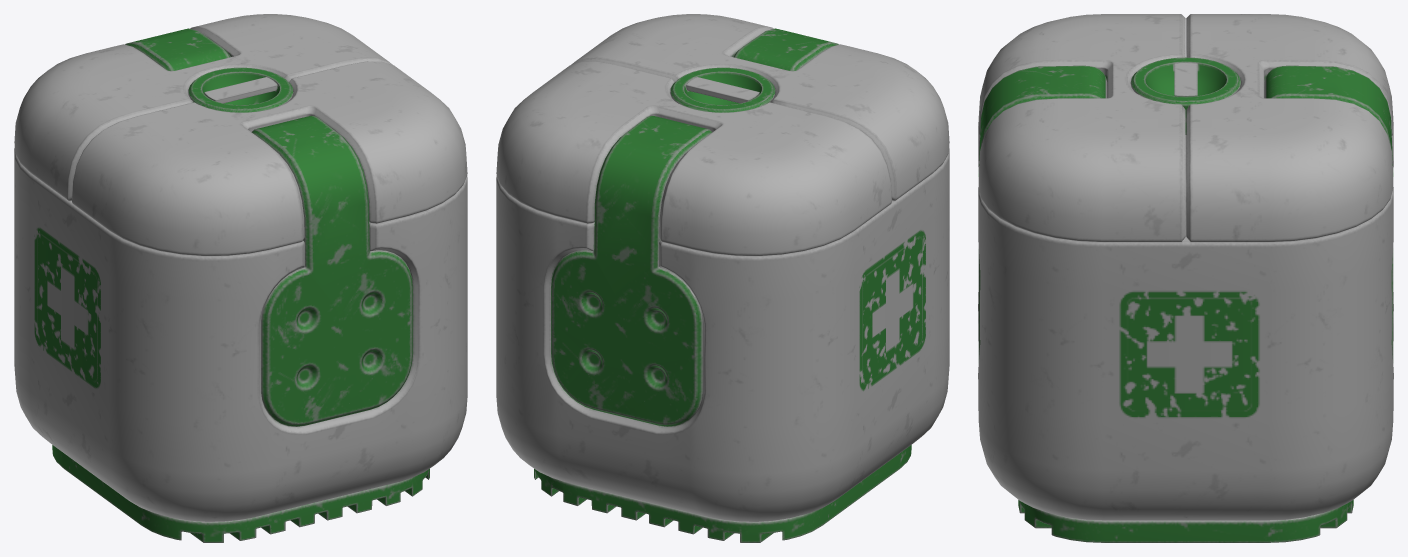
The model's file is sci_fi_medkit.gltf.
3 views of the same model, side by side, from view 1: azimuth 30°, elevation 25°; view 2: azimuth 150°, elevation 25°; view 3: azimuth 270°, elevation 25° (orthographic). The views are drawn at different scales.
Visible parts, largest first — view 1: sci_fi_medkit; view 2: sci_fi_medkit; view 3: sci_fi_medkit.
Boxes of the visible parts, left/top/right/bottom form: sci_fi_medkit: left=14, top=14, right=467, bottom=542; sci_fi_medkit: left=496, top=14, right=949, bottom=542; sci_fi_medkit: left=978, top=14, right=1393, bottom=542.
Bounding box in the file's own units: 0.5 × 0.5226 × 0.5011.
Materials: 1 (1 with a texture image).
